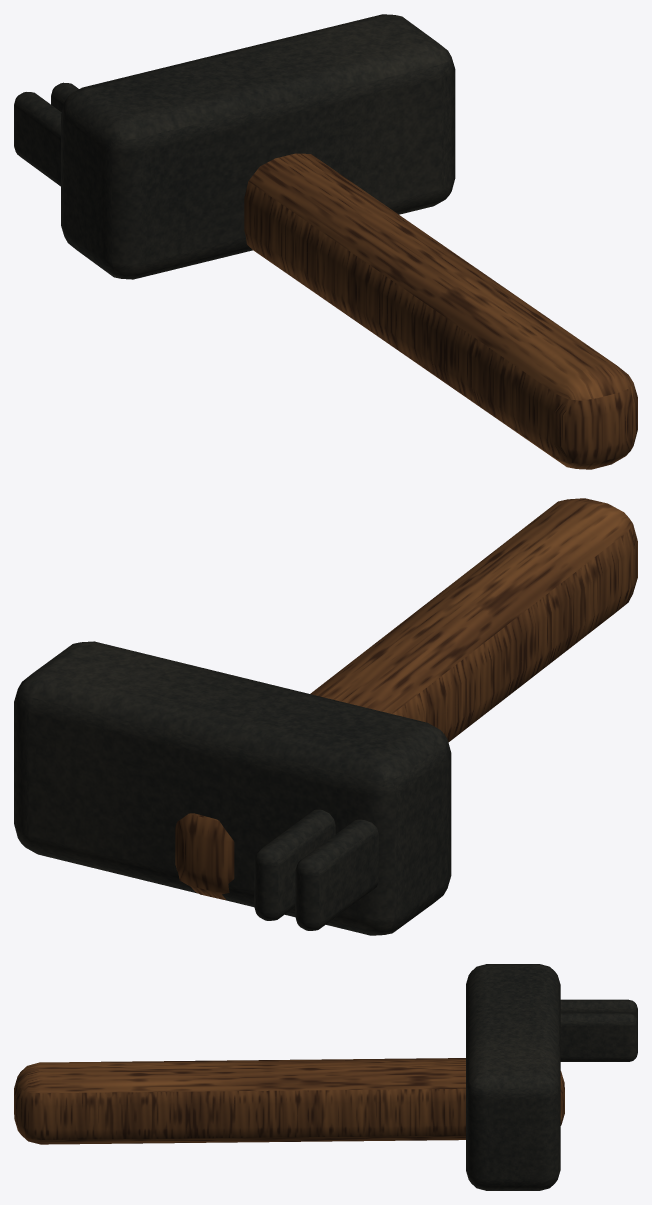
The model's file is Hammer.fbx.
3 renders of one model, top to bottom at view 1: azimuth 30°, elevation 25°; view 2: azimuth 150°, elevation 25°; view 3: azimuth 270°, elevation 25°, orthographic. The views are drawn at different scales.
Parts seen in each view (by area): view 1: Hammer_Iron, Hammer_SmokedOak; view 2: Hammer_Iron, Hammer_SmokedOak; view 3: Hammer_SmokedOak, Hammer_Iron.
Part boxes in pixels (bbox=[...]): Hammer_Iron: bbox=[14, 14, 455, 279]; Hammer_SmokedOak: bbox=[244, 153, 637, 469]; Hammer_Iron: bbox=[14, 641, 451, 935]; Hammer_SmokedOak: bbox=[175, 498, 637, 899]; Hammer_SmokedOak: bbox=[14, 1058, 564, 1144]; Hammer_Iron: bbox=[466, 964, 637, 1190].
Bounding box in the file's own units: 17 × 7.5 × 36.26.
